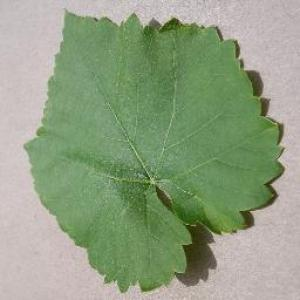Folha: (22, 7, 285, 293)
